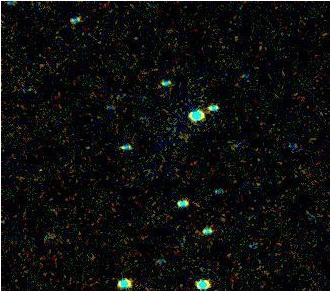star: (166, 121, 196, 151)
